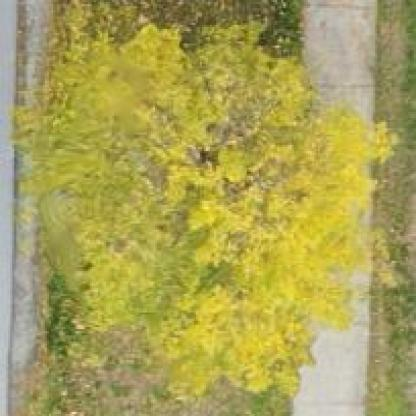Deciduous Tree: (5, 20, 415, 374)
